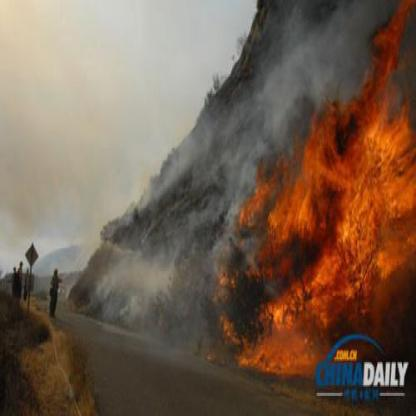smoke: (236, 54, 411, 381)
